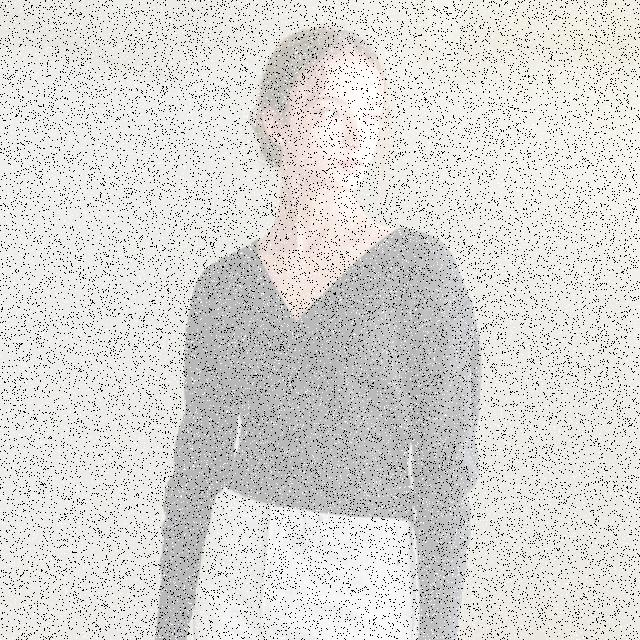dress: (155, 232, 479, 640)
